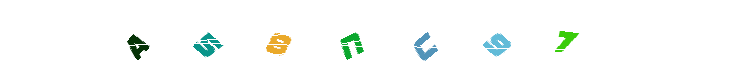5: (168, 0, 248, 80)
7: (526, 0, 606, 80)
8: (238, 0, 318, 80)
9: (406, 0, 486, 80)
A: (97, 0, 177, 80)
C: (328, 0, 408, 80)
N: (308, 0, 388, 80)
